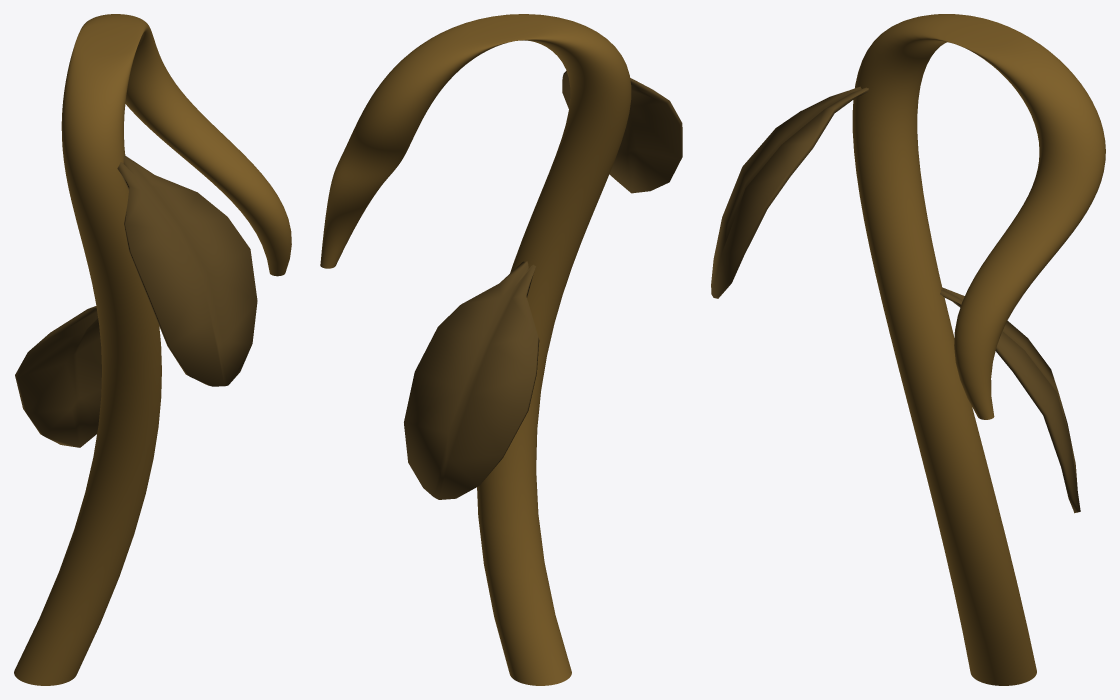
The model's file is Planta muerta.fbx.
3 renders of one model, left to right at view 1: azimuth 30°, elevation 25°; view 2: azimuth 150°, elevation 25°; view 3: azimuth 270°, elevation 25°, orthographic. The views are drawn at different scales.
Visible parts, largest first — view 1: NurbsPath.001, Circle.006, Circle.005; view 2: NurbsPath.001, Circle.005, Circle.006; view 3: NurbsPath.001, Circle.006, Circle.005.
Boxes of the visible parts, x1,y1,x2,y2 form: NurbsPath.001: (14,14,291,685); Circle.006: (117,155,257,386); Circle.005: (15,306,101,447); NurbsPath.001: (320,14,631,685); Circle.005: (404,261,539,499); Circle.006: (562,71,682,193); NurbsPath.001: (852,14,1105,685); Circle.006: (711,86,868,298); Circle.005: (940,287,1080,513).
Size of the model in its own units: 14.69 by 33.62 by 18.08.
